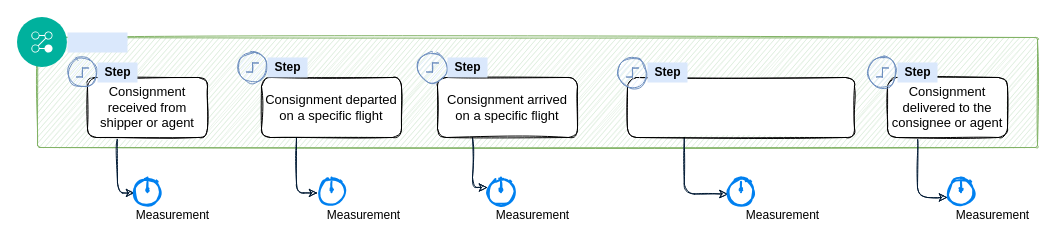
Some shapes in this 1055 by 243 pixel diagram are drawn without their labels. The centre of each missing label's shape, as x and y in pixels:
Consignment arrived at destination and the consignee or agent has been informed: the point at 740,107
Process: the point at 97,42
